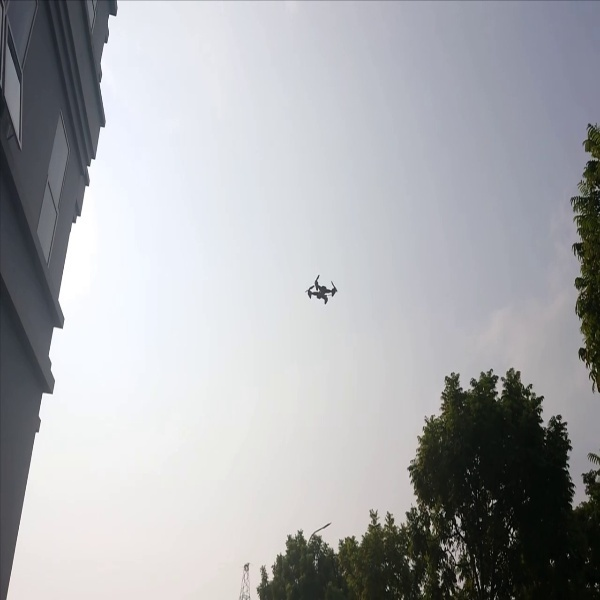drone: (304, 270, 339, 306)
